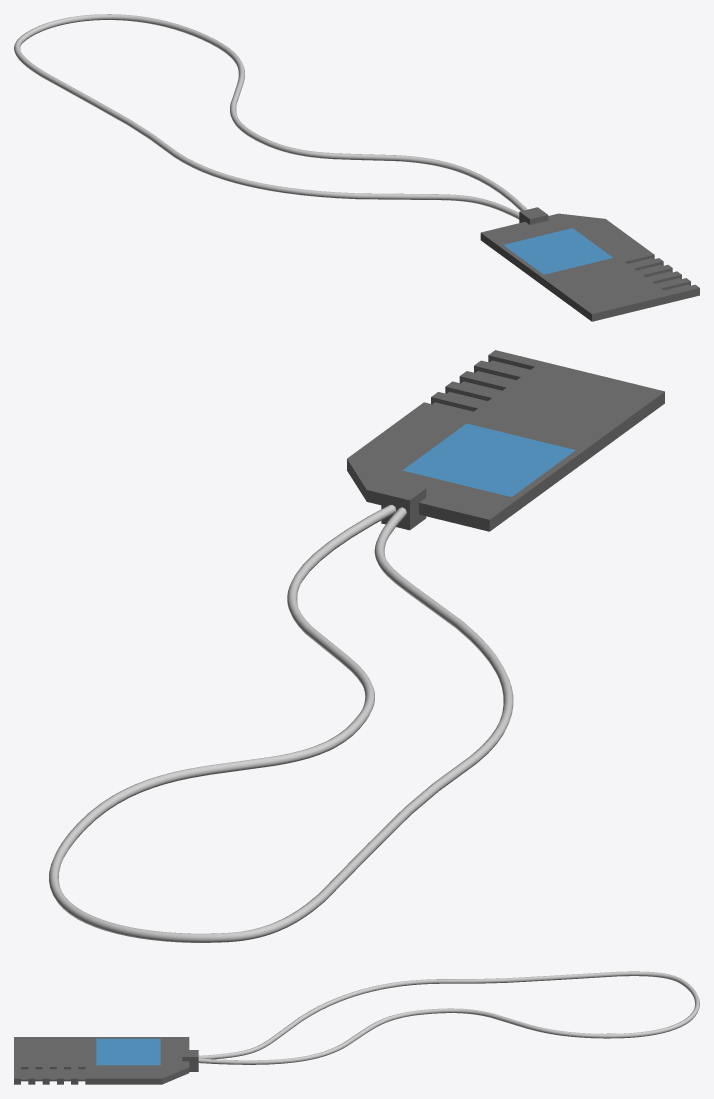
The model's file is Keycard.fbx.
3 views of the same model, one above another, from view 1: azimuth 30°, elevation 25°; view 2: azimuth 150°, elevation 25°; view 3: azimuth 270°, elevation 25° (orthographic). The views are drawn at different scales.
Visible parts, largest first — view 1: Keycard, Strap; view 2: Keycard, Strap; view 3: Keycard, Strap.
Boxes of the visible parts, x1=… form: Keycard: x1=480, y1=207, x2=699, y2=321; Strap: x1=14, y1=14, x2=527, y2=219; Keycard: x1=347, y1=350, x2=664, y2=531; Strap: x1=49, y1=505, x2=513, y2=942; Keycard: x1=14, y1=1037, x2=198, y2=1084; Strap: x1=198, y1=971, x2=699, y2=1064.
Bounding box in the file's own units: 20.25 × 1.33 × 55.23.
